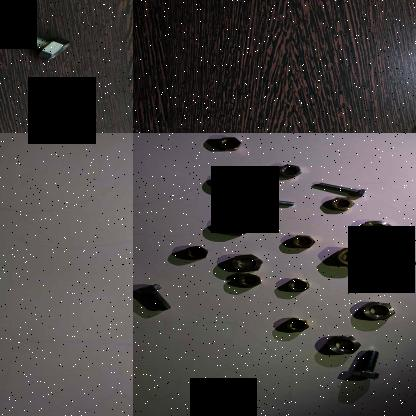Bolts: (3, 29, 74, 61), (133, 281, 179, 317), (348, 344, 382, 382), (310, 180, 366, 200), (231, 195, 299, 210)
NUTS: (211, 216, 256, 240), (320, 332, 362, 356), (209, 173, 251, 196), (330, 246, 372, 268), (356, 218, 393, 242), (355, 301, 398, 321), (230, 252, 267, 272), (206, 134, 242, 154), (225, 272, 267, 288), (320, 194, 356, 212), (178, 240, 210, 260), (386, 252, 416, 272), (270, 163, 302, 181), (278, 316, 312, 332), (288, 233, 316, 250), (282, 276, 310, 292)
